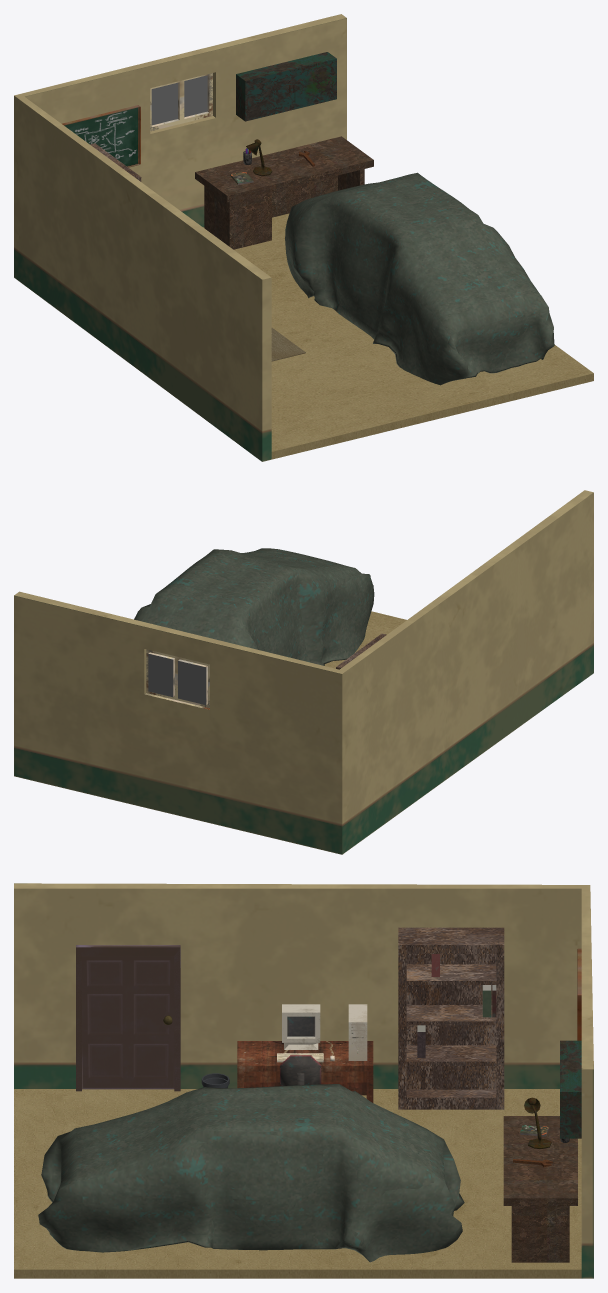
File: aitycoon.fbx
3 renders of one model, top to bottom at view 1: azimuth 30°, elevation 25°; view 2: azimuth 150°, elevation 25°; view 3: azimuth 270°, elevation 25°, orthographic. The views are drawn at different scales.
Visible parts, largest first — view 1: Cube.018, Cube.017, Cube.019, masa.001, Cube.011, Cube.009, Cube.020, Cube, Plane; view 2: Cube.018, Cube.017, Cube.020, Cube, Cube.019; view 3: Cube.018, Cube.017, Cube.019, Cube.004, Cube.010, masa.001, masa, Cube.011, Cube.001, Cube.012, pckasası, Cube.016.
Part boxes in pixels (<box>): Cube.018: <box>14,14,346,461</box>; Cube.017: <box>285,172,554,385</box>; Cube.019: <box>203,213,593,459</box>; masa.001: <box>195,136,373,249</box>; Cube.011: <box>236,52,336,121</box>; Cube.009: <box>62,105,140,167</box>; Cube.020: <box>151,75,207,125</box>; Cube: <box>150,73,212,131</box>; Plane: <box>271,327,305,361</box>; Cube.018: <box>14,490,593,854</box>; Cube.017: <box>134,548,374,665</box>; Cube.020: <box>148,653,206,704</box>; Cube: <box>145,649,209,709</box>; Cube.019: <box>324,611,406,668</box>; Cube.018: <box>14,883,593,1278</box>; Cube.017: <box>38,1084,464,1262</box>; Cube.019: <box>14,1089,581,1278</box>; Cube.004: <box>398,927,504,1109</box>; Cube.010: <box>76,945,180,1091</box>; masa.001: <box>503,1116,577,1262</box>; masa: <box>237,1041,373,1102</box>; Cube.011: <box>560,1040,581,1138</box>; Cube.001: <box>282,1004,320,1049</box>; Cube.012: <box>280,1055,321,1085</box>; pckasası: <box>348,1004,367,1060</box>; Cube.016: <box>524,1097,551,1148</box>.
Size of the model in its own units: 1536 by 814 by 1997.
Materials: 29 (29 with a texture image).
